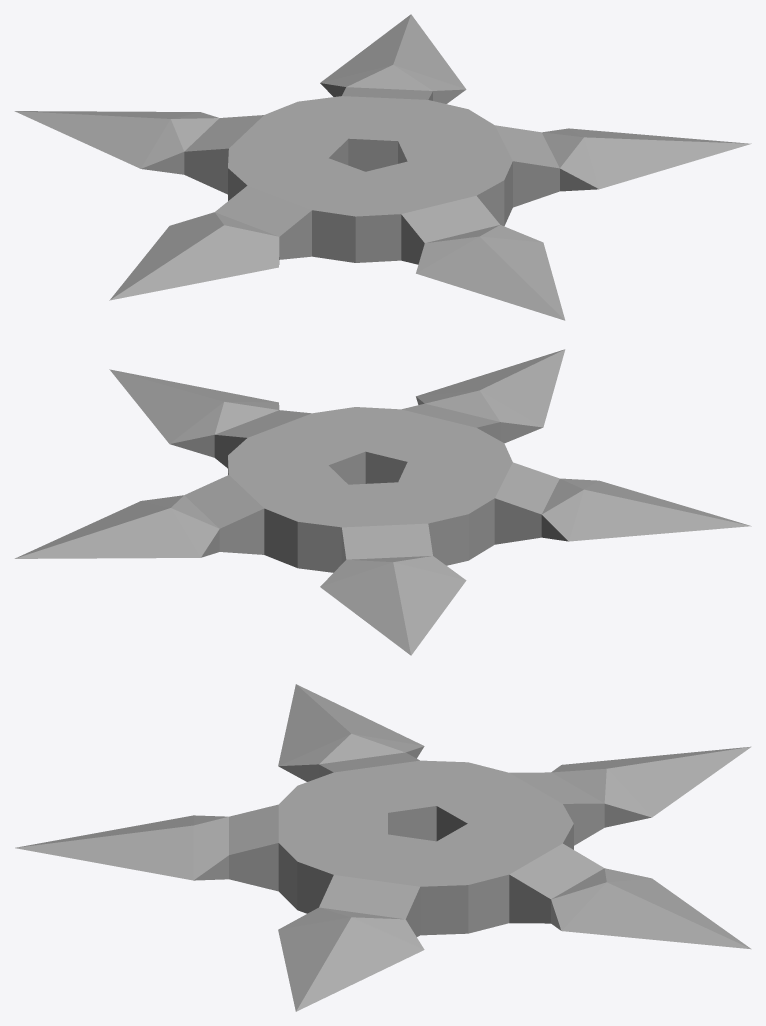
Rendered from 5 Point Shuriken - Textured Low Poly Asian Weapon Pack by Kickin It Studios.fbx.
3 views of the same model, one above another, from view 1: azimuth 30°, elevation 25°; view 2: azimuth 150°, elevation 25°; view 3: azimuth 270°, elevation 25° (orthographic). The views are drawn at different scales.
Visible parts, largest first — view 1: 5 Point Shuriken; view 2: 5 Point Shuriken; view 3: 5 Point Shuriken.
Part boxes in pixels (x1=…): 5 Point Shuriken: x1=14, y1=14, x2=751, y2=320; 5 Point Shuriken: x1=14, y1=349, x2=751, y2=655; 5 Point Shuriken: x1=15, y1=684, x2=751, y2=1011.
Bounding box in the file's own units: 106 × 7.34 × 101.
